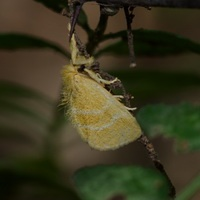insect: (59, 34, 141, 150)
